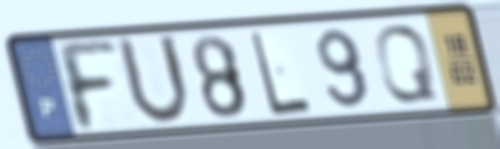8: (189, 32, 251, 121)
9: (314, 24, 374, 111)
F: (50, 38, 122, 134)
L: (246, 27, 315, 118)
Q: (371, 21, 442, 106)
U: (113, 32, 194, 130)
